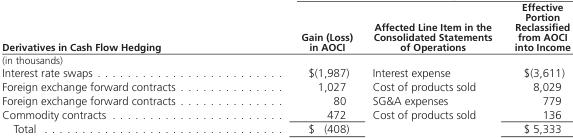table: (1, 0, 569, 135)
table column: (1, 0, 237, 135), (361, 0, 502, 135), (237, 0, 361, 135), (502, 0, 569, 135)
table column header: (1, 0, 569, 65)
table row: (1, 0, 569, 65), (1, 65, 569, 79), (1, 79, 569, 93), (1, 93, 569, 107), (1, 107, 569, 121), (1, 121, 569, 135)
